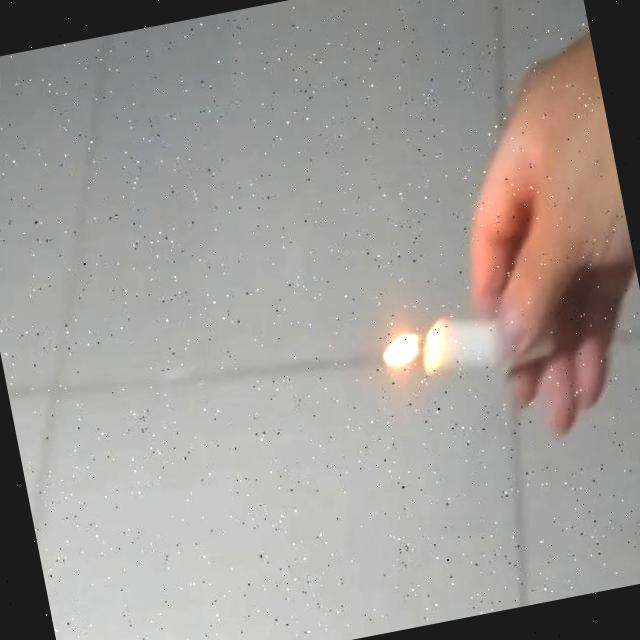fire: (366, 318, 428, 387)
